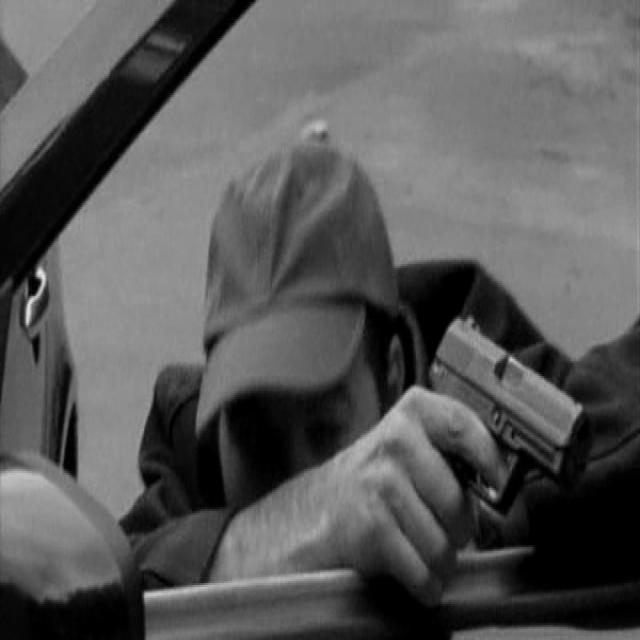weapons: (382, 276, 602, 576)
